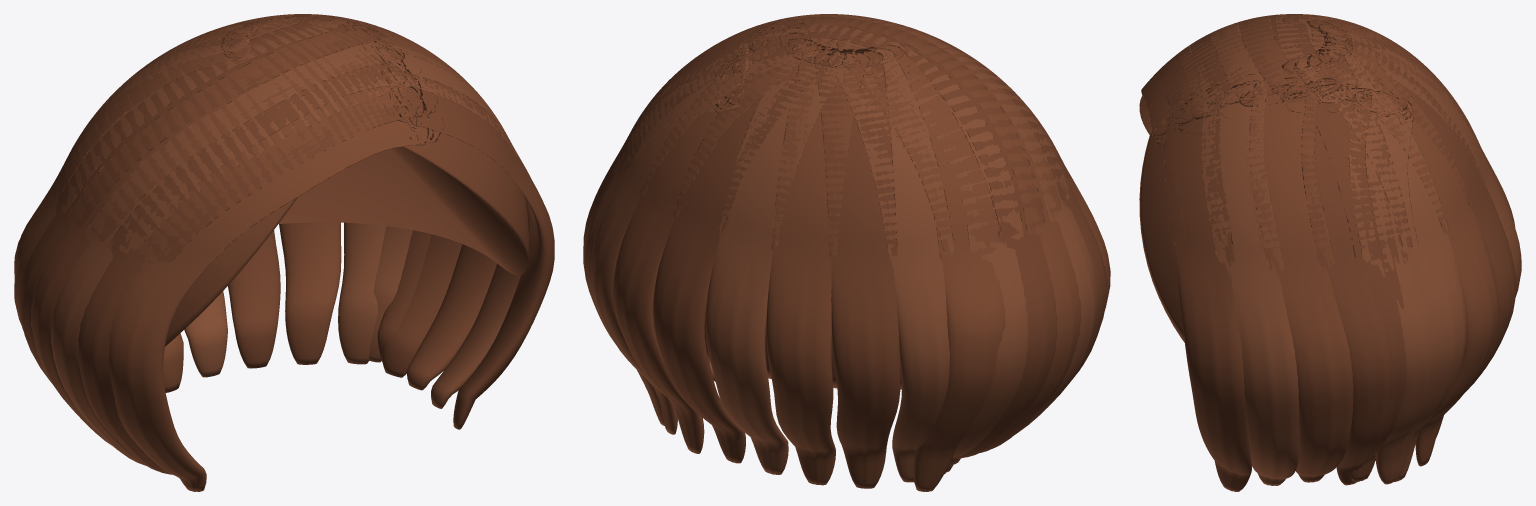
File: Masculine-flow-covered-hair.glb
3 renders of one model, left to right at view 1: azimuth 30°, elevation 25°; view 2: azimuth 150°, elevation 25°; view 3: azimuth 270°, elevation 25°, orthographic. The views are drawn at different scales.
Visible parts, largest first — view 1: 226 hair / Hair / sculpted 0.004, 226 hair / Hair / sculpted 1.005, 226 hair / Hair / sculpted 2.004, 226 hair / Hair / sculpted 1.001; view 2: 226 hair / Hair / sculpted 0.004, 226 hair / Hair / sculpted 2.004, 226 hair / Hair / sculpted 1.005; view 3: 226 hair / Hair / sculpted 1.005, 226 hair / Hair / sculpted 2.004, 226 hair / Hair / sculpted 0.004, 226 hair / Hair / sculpted 1.001.
Part boxes in pixels (x1=…): 226 hair / Hair / sculpted 0.004: x1=14, y1=14, x2=496, y2=491; 226 hair / Hair / sculpted 1.005: x1=19, y1=14, x2=554, y2=474; 226 hair / Hair / sculpted 2.004: x1=14, y1=14, x2=530, y2=465; 226 hair / Hair / sculpted 1.001: x1=165, y1=133, x2=528, y2=346; 226 hair / Hair / sculpted 0.004: x1=612, y1=14, x2=1110, y2=491; 226 hair / Hair / sculpted 2.004: x1=583, y1=14, x2=1097, y2=482; 226 hair / Hair / sculpted 1.005: x1=583, y1=15, x2=1106, y2=488; 226 hair / Hair / sculpted 1.005: x1=1158, y1=14, x2=1516, y2=491; 226 hair / Hair / sculpted 2.004: x1=1180, y1=14, x2=1521, y2=485; 226 hair / Hair / sculpted 0.004: x1=1141, y1=14, x2=1515, y2=482; 226 hair / Hair / sculpted 1.001: x1=1139, y1=95, x2=1184, y2=342.
Size of the model in its own units: 1.08 by 0.8686 by 0.7757.
